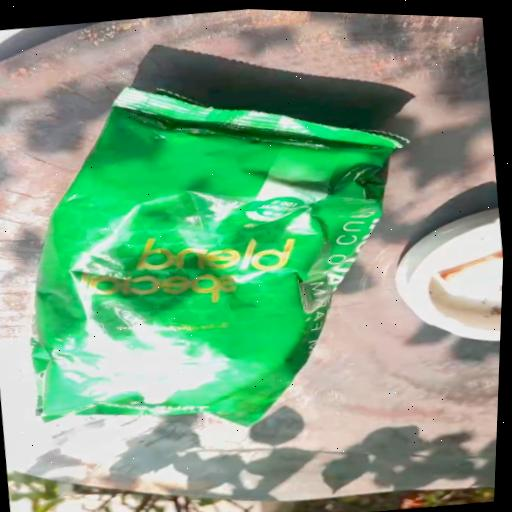cafe_xay: (31, 86, 402, 424)
